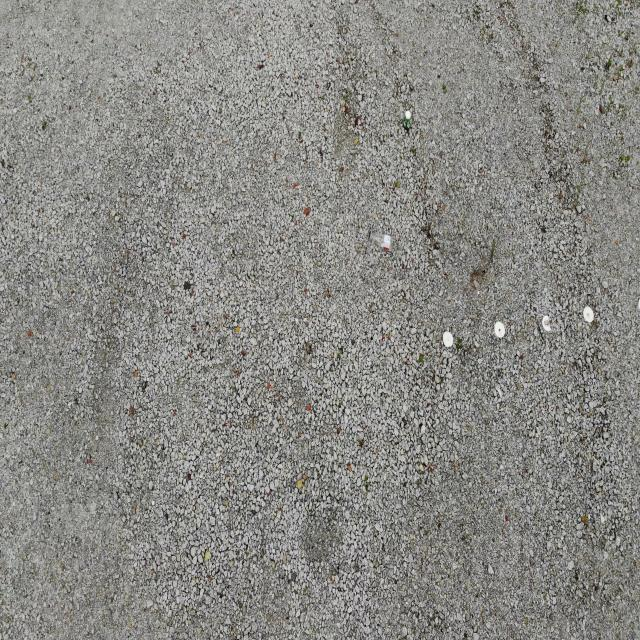rubbish: (367, 232, 393, 254), (403, 108, 411, 129)
